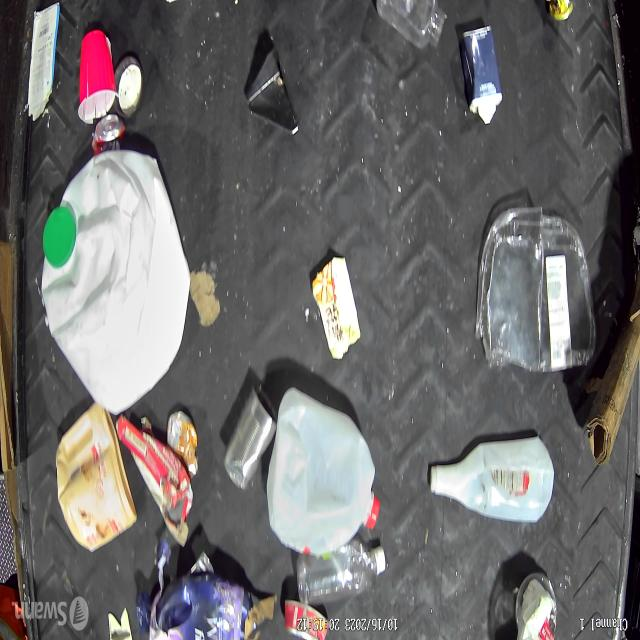can: (223, 371, 274, 493), (280, 589, 332, 640)
milk_jug: (39, 145, 190, 413), (265, 383, 380, 558)
non_white_jug: (136, 561, 253, 640)
plastic_bottle: (291, 532, 388, 608)
